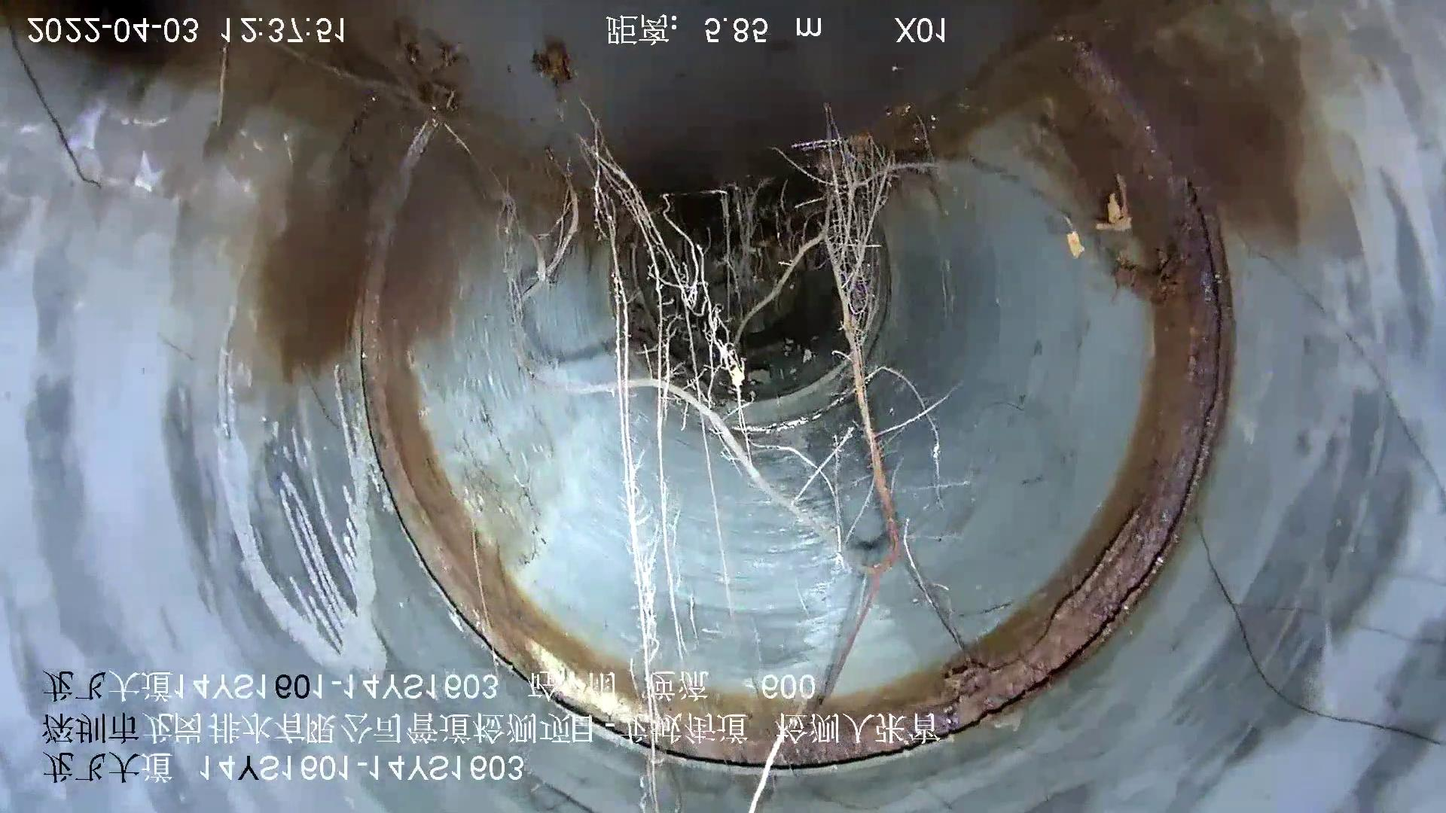CKTJ: (352, 24, 1241, 783)
SG: (482, 136, 969, 813)
